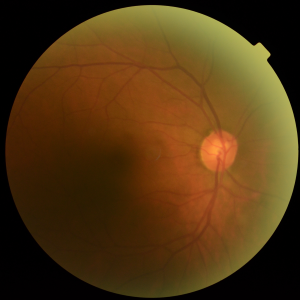cataract: (84, 93, 271, 204)
